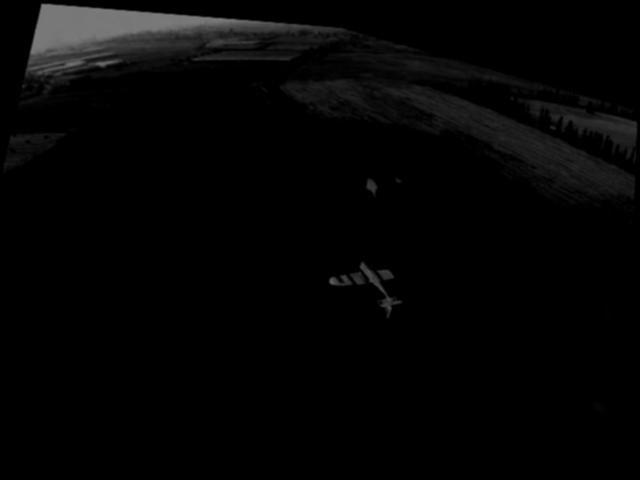hedef: (311, 228, 432, 326)
